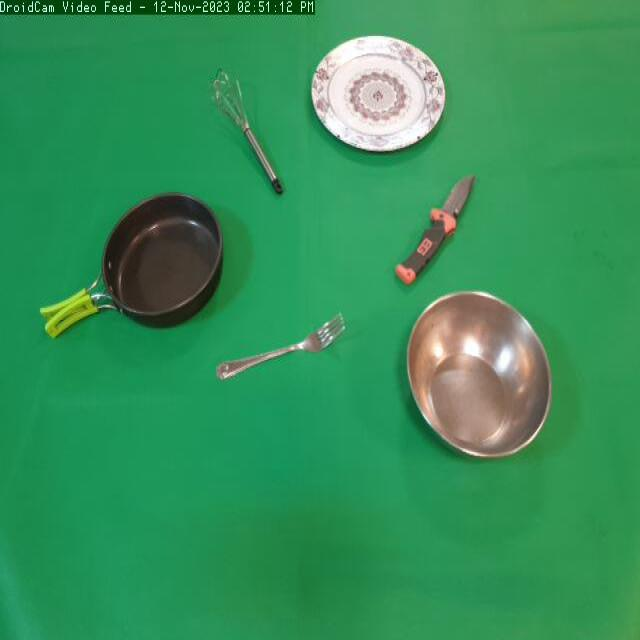bowl: (401, 286, 564, 470)
fork: (205, 309, 352, 394)
knife: (392, 161, 479, 295)
pan: (34, 192, 230, 357)
plate: (312, 31, 457, 162)
whisk: (203, 65, 290, 206)
